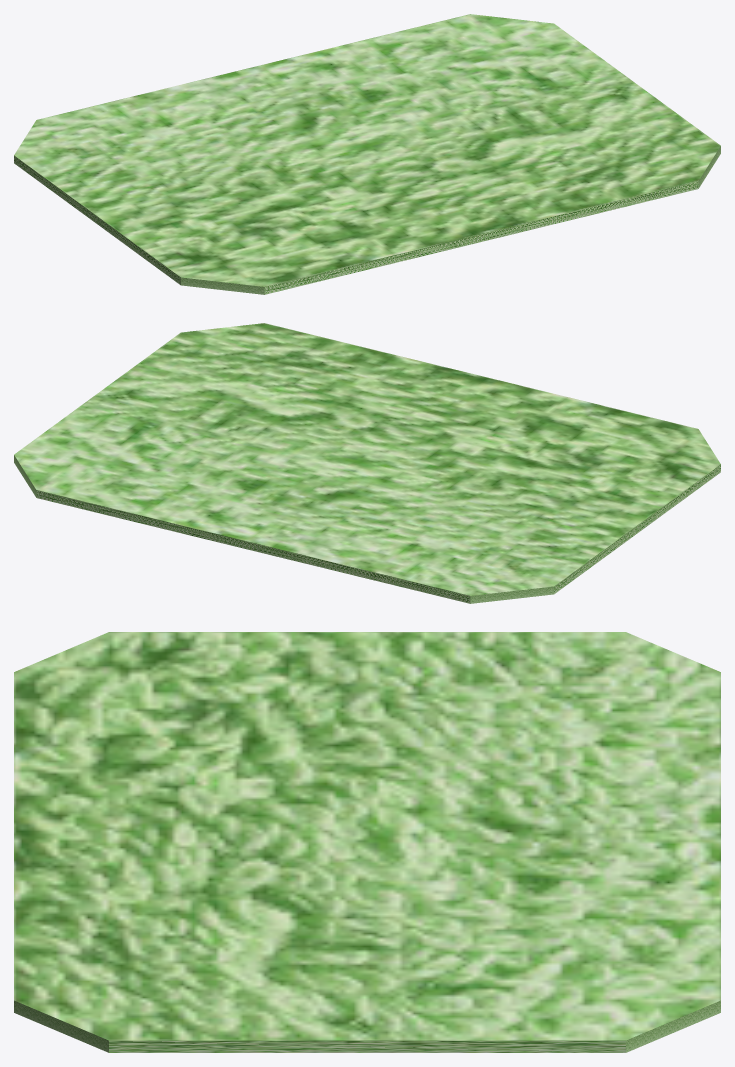
The model's file is bath carpet.FBX.
3 renders of one model, top to bottom at view 1: azimuth 30°, elevation 25°; view 2: azimuth 150°, elevation 25°; view 3: azimuth 270°, elevation 25°, orthographic. The views are drawn at different scales.
Visible parts, largest first — view 1: Box001; view 2: Box001; view 3: Box001.
Boxes of the visible parts, x1,y1,x2,y2 form: Box001: [14, 14, 720, 294]; Box001: [14, 323, 720, 603]; Box001: [14, 632, 720, 1052].
Size of the model in its own units: 3478 by 48.98 by 2544.
1 material, 1 textured.
